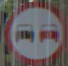No overtake: (9, 5, 61, 52)
